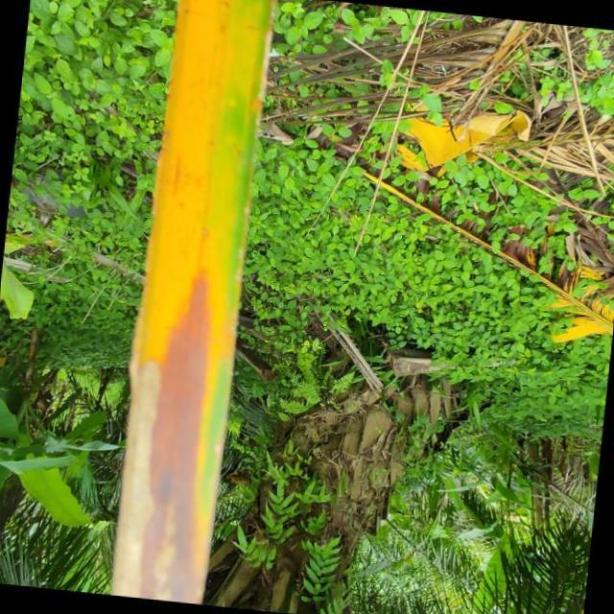Megnesium: (107, 0, 274, 614)
